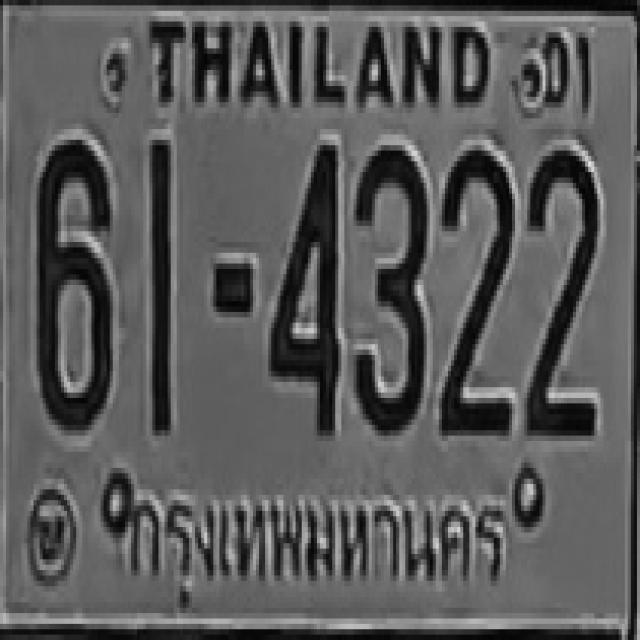1: (149, 137, 171, 433)
2: (523, 145, 599, 430), (439, 142, 512, 428)
3: (352, 140, 425, 430)
4: (268, 140, 338, 430)
6: (35, 132, 111, 428)
Bangkok: (114, 481, 520, 618)
